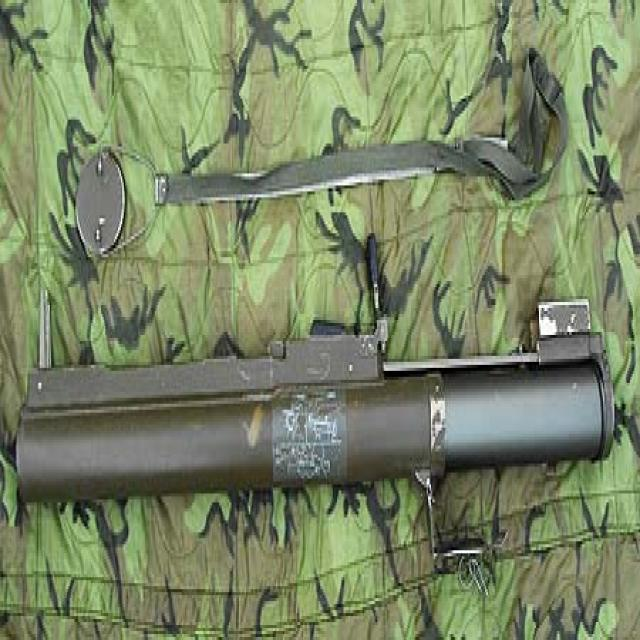bazooka: (16, 279, 625, 570)
